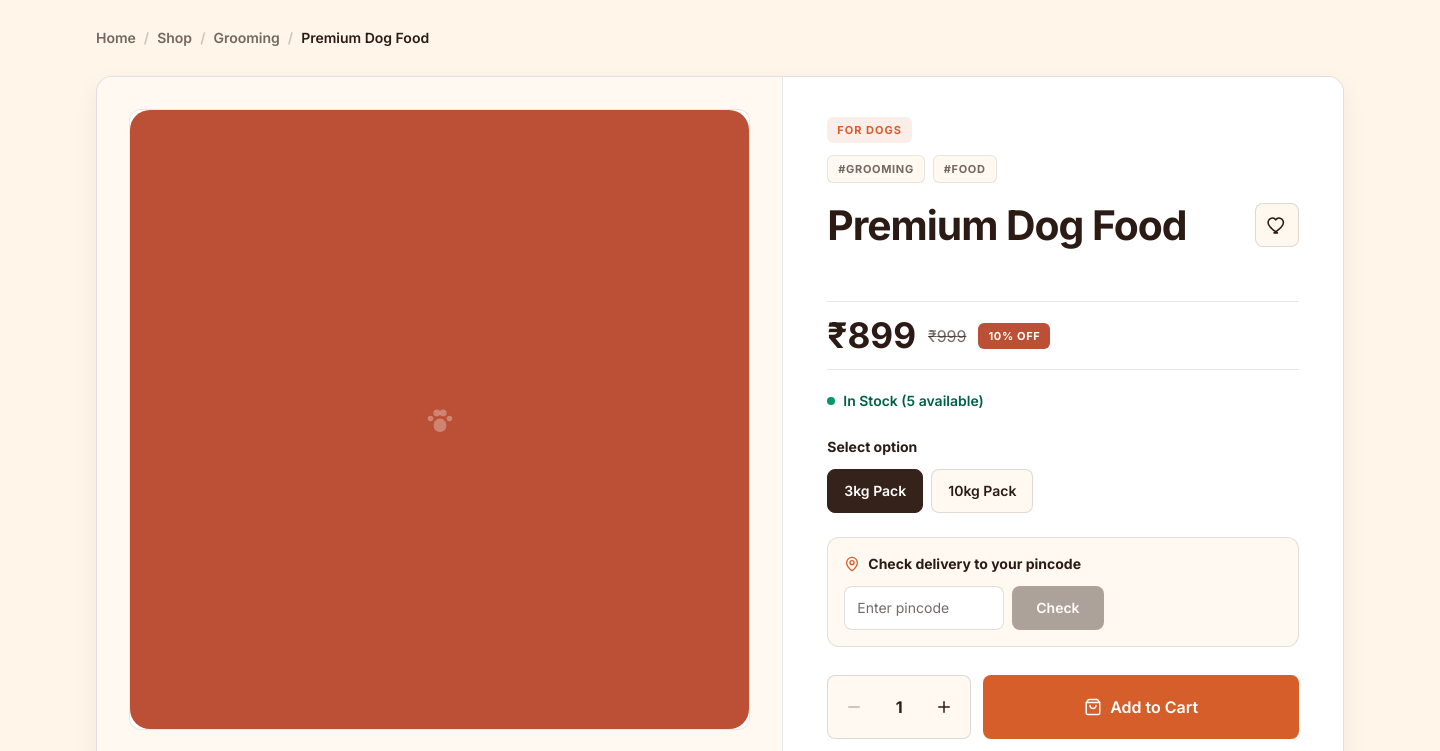
Test case: ProductDetail Storefront Component › Mobile sticky Add to Cart bar › 66c. sticky price follows the selected variant, starting from the first pre-selected option
This screenshot has width=1440, height=751.
What coordinates should you click on to do the following:
click the button "10kg Pack"
I would click on:
 (982, 491)
Its box is [931,469,1033,513].
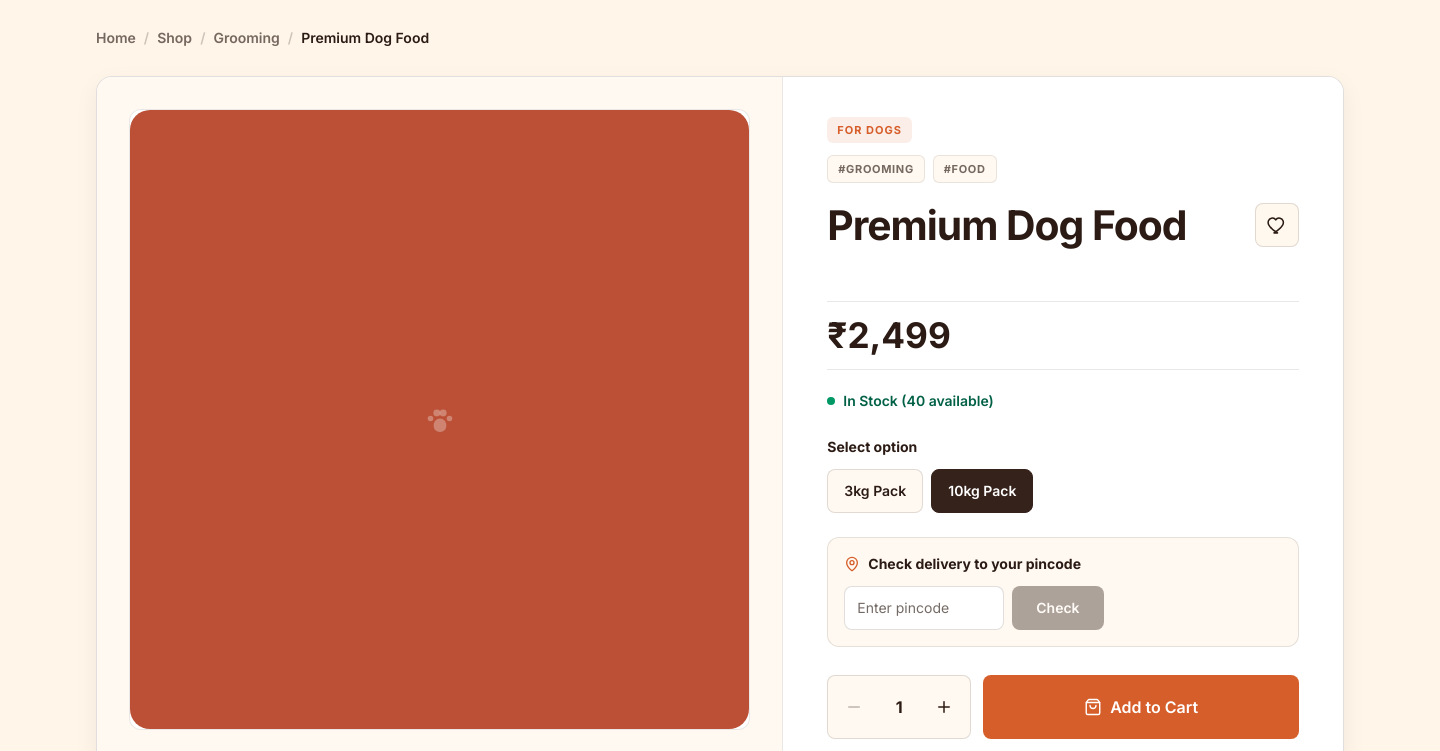
Expected: the text "₹899" is gone
